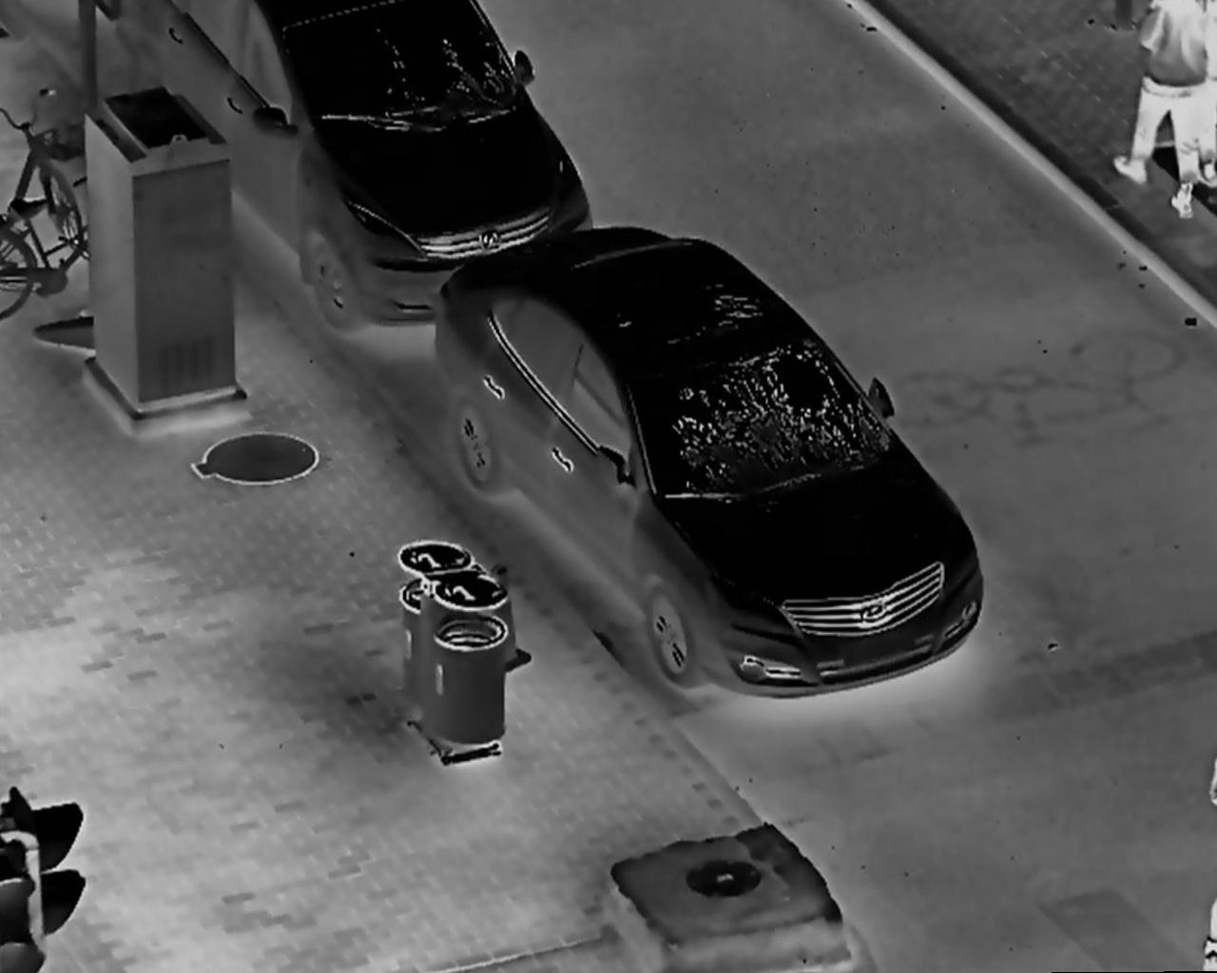person: (1111, 3, 1210, 217)
